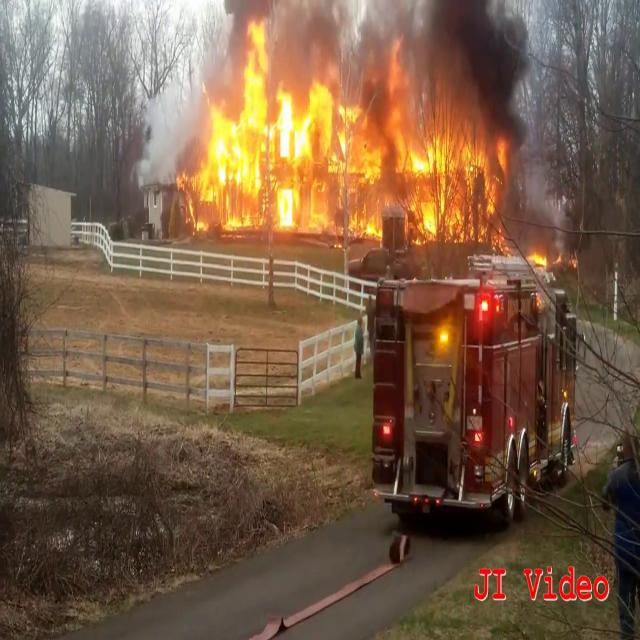Fire: (182, 22, 516, 247), (526, 241, 551, 274)
